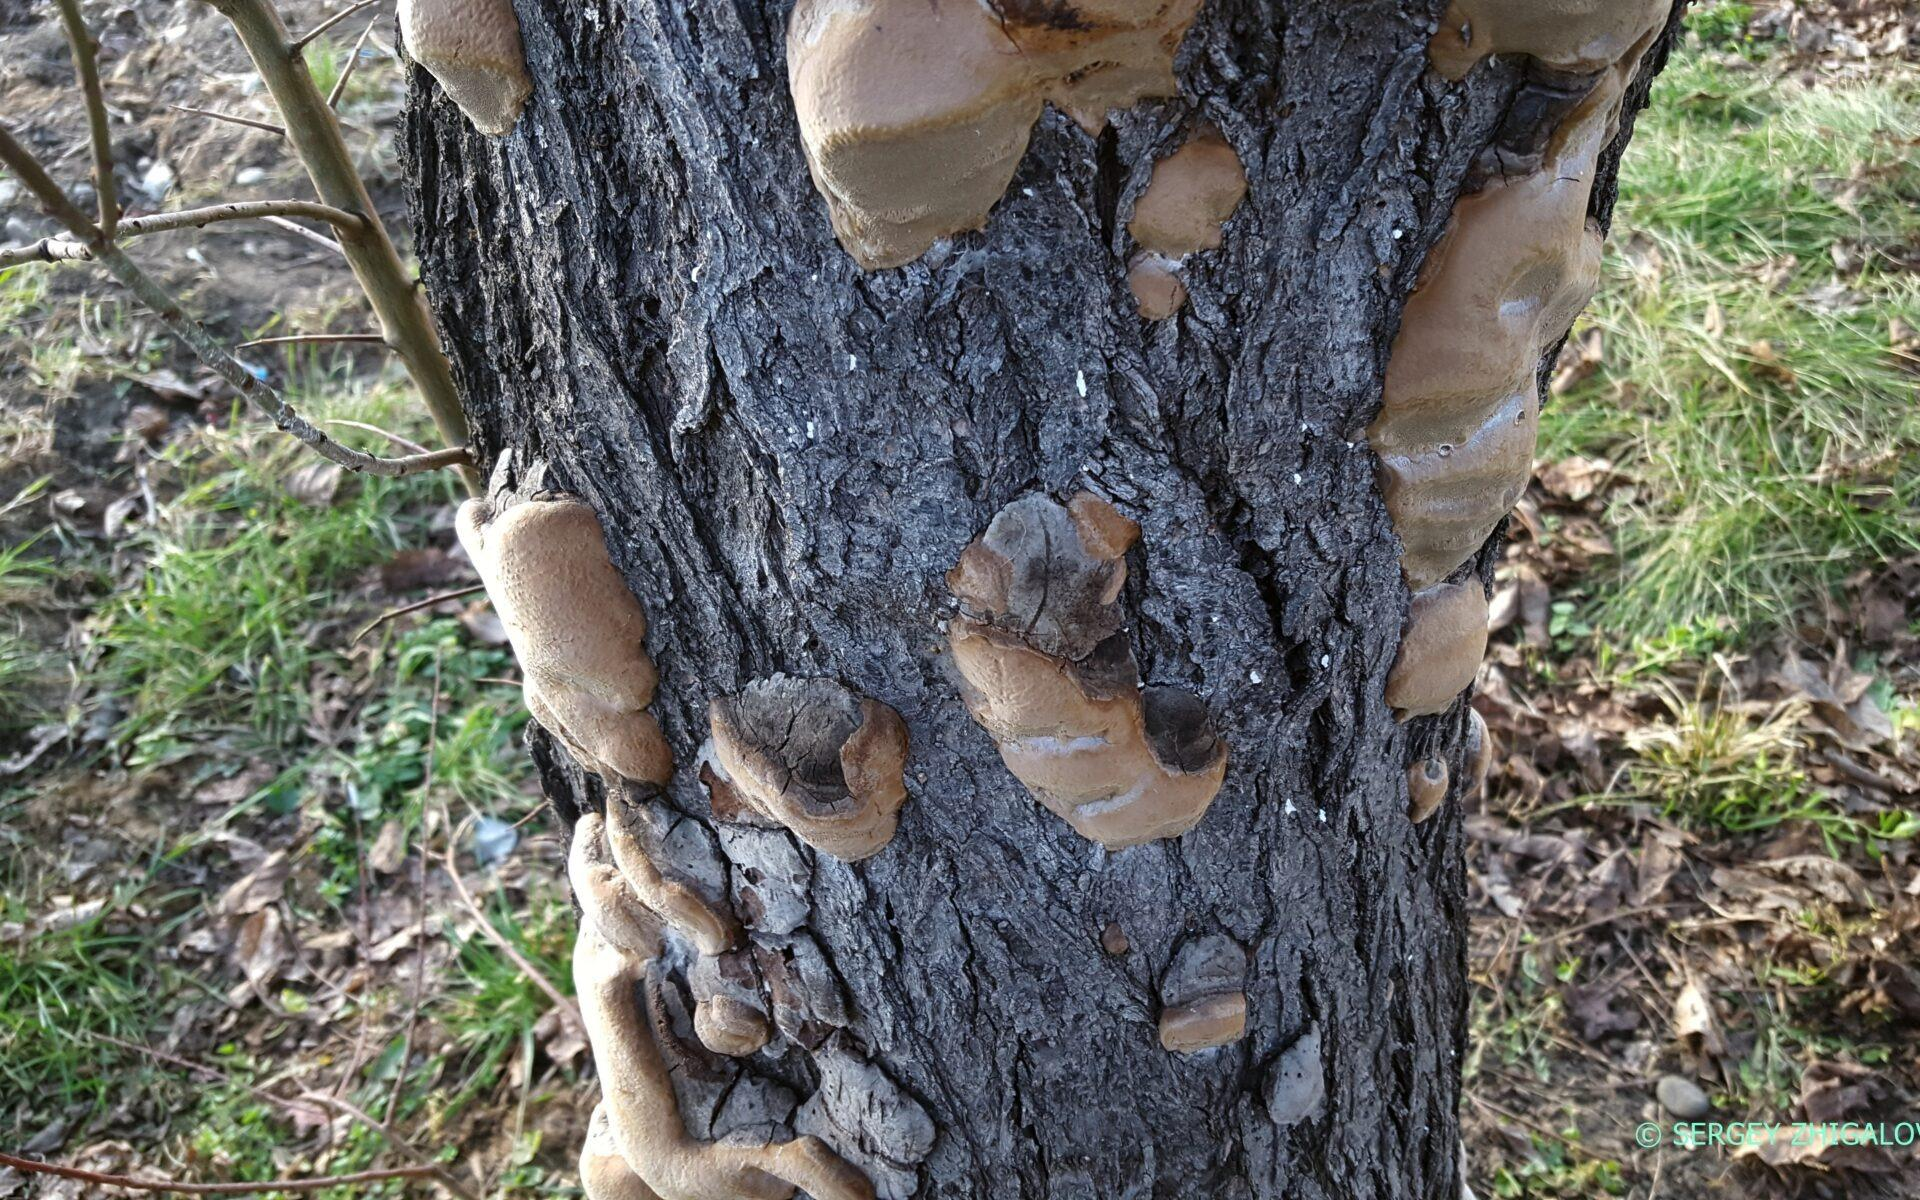Plum tinder fungus: (441, 806, 887, 1199), (914, 440, 1265, 854), (771, 0, 1295, 275), (1392, 153, 1599, 585), (440, 462, 686, 782), (702, 668, 911, 885), (1409, 0, 1689, 145), (1104, 123, 1269, 332), (380, 0, 557, 153), (1380, 581, 1512, 731), (1103, 944, 1277, 1056), (1391, 741, 1461, 836)
